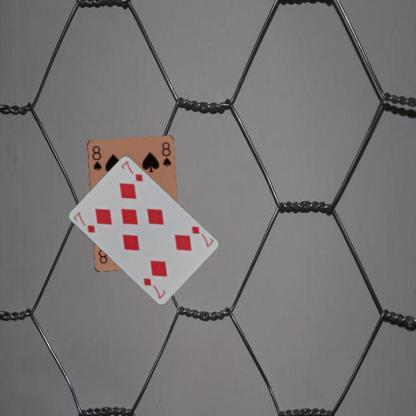7d: (188, 223, 214, 248), (70, 210, 96, 234)
8s: (89, 143, 103, 172)
